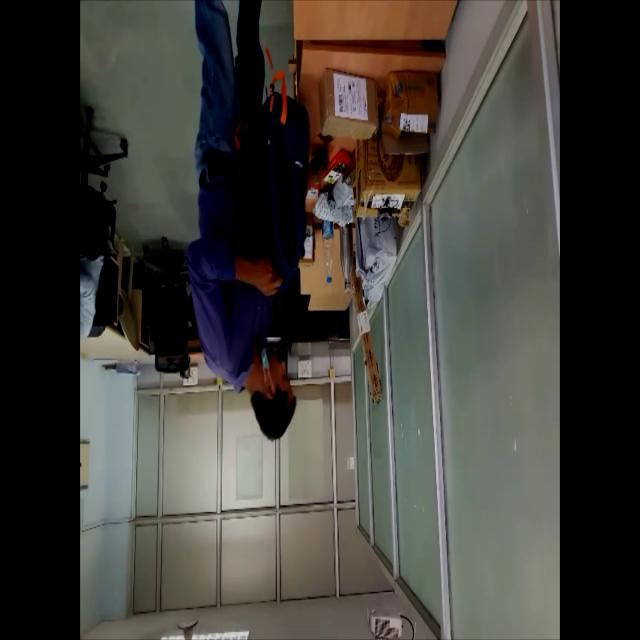shoplifting: (184, 0, 311, 449)
